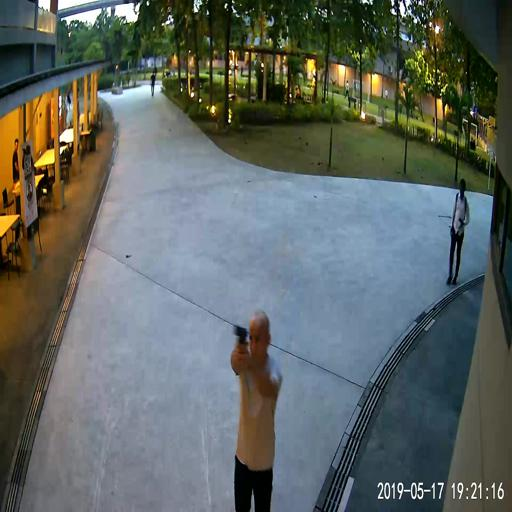pistol: (232, 323, 248, 363)
